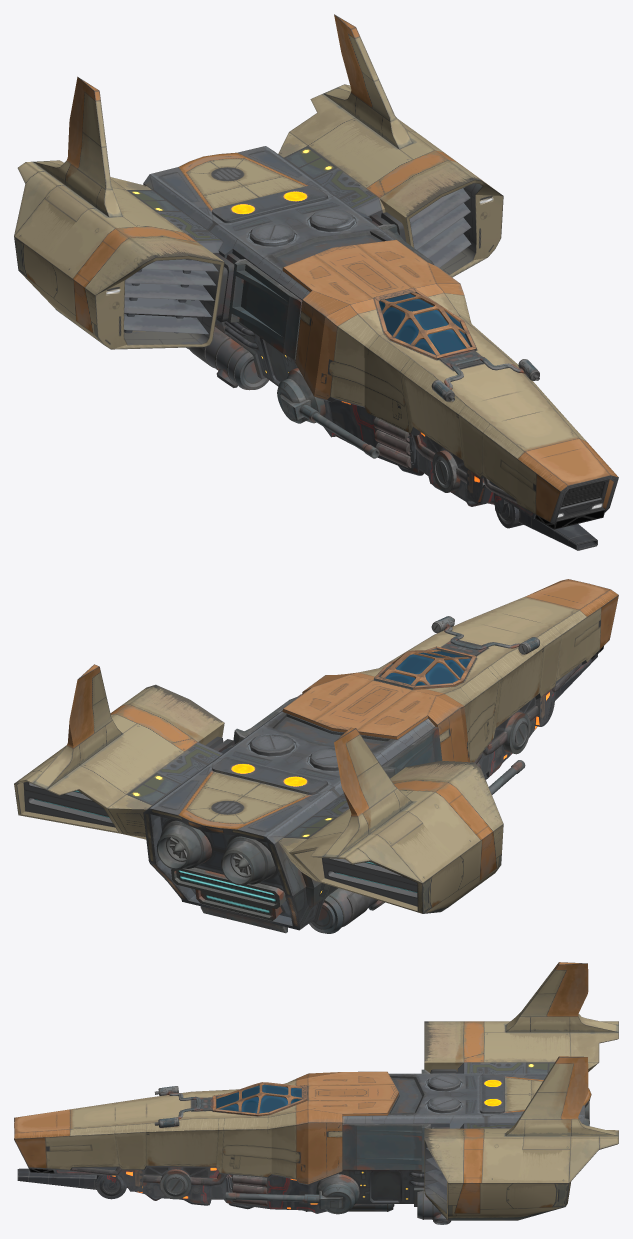
File: space ship.fbx
3 views of the same model, one above another, from view 1: azimuth 30°, elevation 25°; view 2: azimuth 150°, elevation 25°; view 3: azimuth 270°, elevation 25° (orthographic). The views are drawn at different scales.
Parts seen in each view (by area): view 1: Plano.001, Plano.009, Plano.011, Plano.002, Plano.010, Curva NURBS.003, Plano.004, Cilindro, Plano.005, Plano.003, Círculo.004, Plano.007 (+5 smaller); view 2: Plano.001, Plano.009, Plano.011, Círculo.007, Plano.013, Plano.010, Cilindro, Plano.004, Plano.005, Plano.012, Curva NURBS.003, Plano.003 (+3 smaller); view 3: Plano.001, Plano.009, Plano.011, Plano.010, Curva NURBS.003, Plano.004, Círculo.003, Plano.008, Círculo.004, Círculo.002, Plano.005, Plano.003 (+7 smaller).
Part boxes in pixels (x1,y1,x2,y2): Plano.001: [14, 14, 503, 349]; Plano.009: [282, 239, 618, 524]; Plano.011: [143, 146, 394, 386]; Plano.002: [124, 187, 471, 334]; Plano.010: [228, 224, 433, 359]; Curva NURBS.003: [323, 400, 535, 519]; Plano.004: [379, 294, 470, 354]; Cilindro: [186, 327, 268, 390]; Plano.005: [374, 287, 483, 370]; Plano.003: [380, 292, 470, 355]; Círculo.004: [373, 417, 411, 468]; Plano.007: [214, 212, 406, 323]; Plano.001: [14, 664, 503, 913]; Plano.009: [282, 579, 618, 762]; Plano.011: [143, 710, 435, 930]; Círculo.007: [156, 820, 275, 885]; Plano.013: [171, 867, 285, 908]; Plano.010: [233, 694, 442, 778]; Cilindro: [309, 888, 377, 933]; Plano.004: [385, 651, 470, 685]; Plano.005: [374, 640, 488, 689]; Plano.012: [195, 889, 282, 920]; Curva NURBS.003: [480, 659, 591, 776]; Plano.003: [377, 649, 471, 688]; Plano.001: [424, 962, 618, 1220]; Plano.009: [14, 1071, 398, 1185]; Plano.011: [338, 1073, 591, 1206]; Plano.010: [342, 1069, 430, 1172]; Curva NURBS.003: [54, 1166, 326, 1213]; Plano.004: [216, 1084, 301, 1113]; Círculo.003: [316, 1173, 359, 1214]; Plano.008: [17, 1168, 96, 1189]; Círculo.004: [232, 1175, 267, 1205]; Círculo.002: [160, 1169, 191, 1199]; Plano.005: [191, 1085, 307, 1116]; Plano.003: [216, 1082, 307, 1113].
Bounding box in the file's own units: 895 × 534 × 1536.
